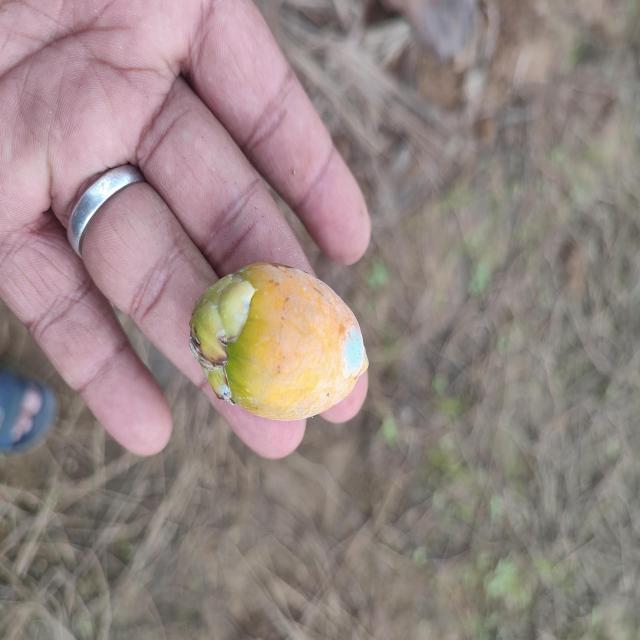good: (191, 270, 369, 425)
